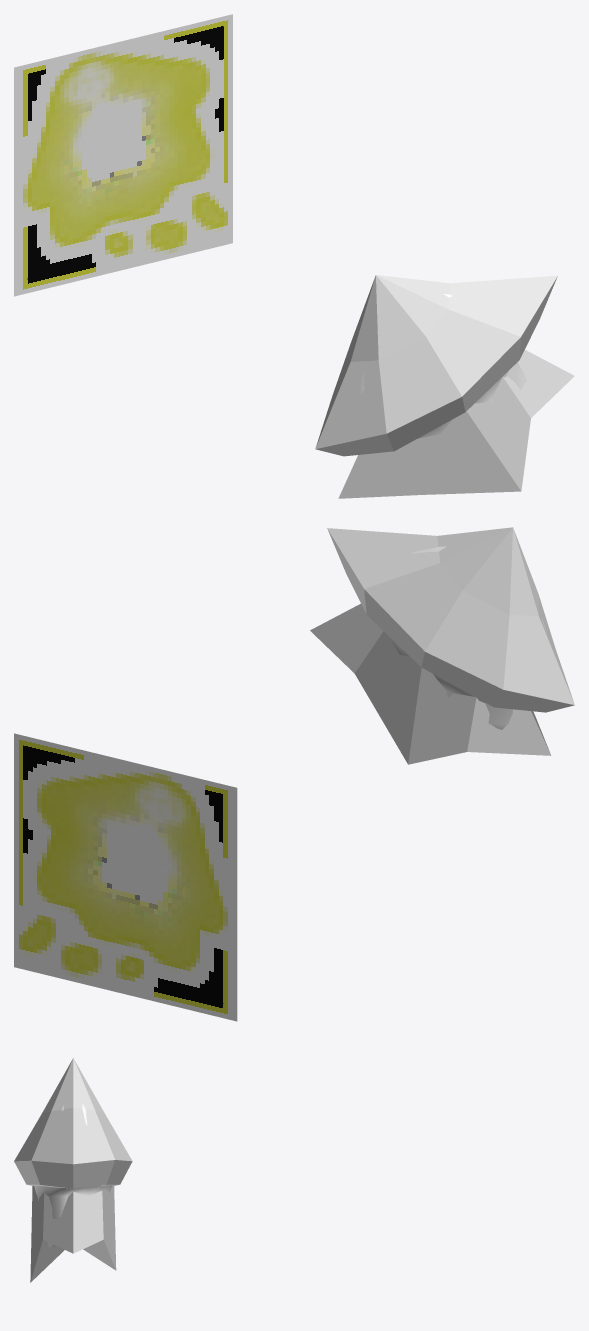
Rendered from jelly.glb.
3 renders of one model, top to bottom at view 1: azimuth 30°, elevation 25°; view 2: azimuth 150°, elevation 25°; view 3: azimuth 270°, elevation 25°, orthographic. The views are drawn at different scales.
Visible parts, largest first — view 1: Plane, Jelly, Jelly.001; view 2: Plane, Jelly, Jelly.001; view 3: Jelly, Jelly.001.
Boxes of the visible parts, box(x1,y1,x2,y2) form: Plane: box(14, 14, 232, 296); Jelly: box(315, 275, 574, 498); Jelly.001: box(360, 294, 526, 438); Plane: box(14, 733, 237, 1021); Jelly: box(310, 527, 574, 764); Jelly.001: box(387, 546, 547, 729); Jelly: box(14, 1058, 132, 1282); Jelly.001: box(34, 1104, 111, 1247).
Bounding box in the file's own units: 2.37 × 2.11 × 5.59.
Materials: 2 (2 with a texture image).
